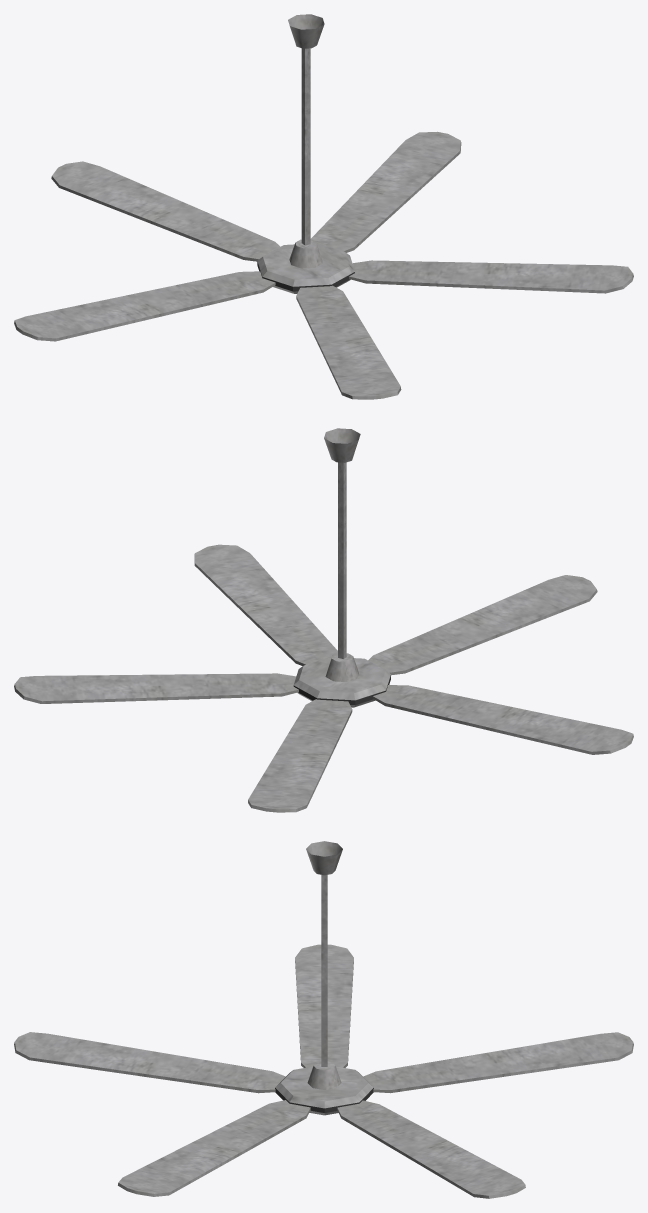
File: ceiling fan.glb
3 renders of one model, top to bottom at view 1: azimuth 30°, elevation 25°; view 2: azimuth 150°, elevation 25°; view 3: azimuth 270°, elevation 25°, orthographic. The views are drawn at different scales.
Visible parts, largest first — view 1: Cube.240, Cube.242; view 2: Cube.240, Cube.242; view 3: Cube.240, Cube.242.
Part boxes in pixels (box(x1,y1,x2,y2)): Cube.240: box(14, 131, 633, 399); Cube.242: box(288, 14, 324, 268); Cube.240: box(14, 544, 633, 812); Cube.242: box(324, 428, 360, 681); Cube.240: box(14, 944, 633, 1198); Cube.242: box(306, 841, 342, 1089).
Size of the model in its own units: 2.11 by 0.973 by 2.2.
2 materials, 1 textured.
